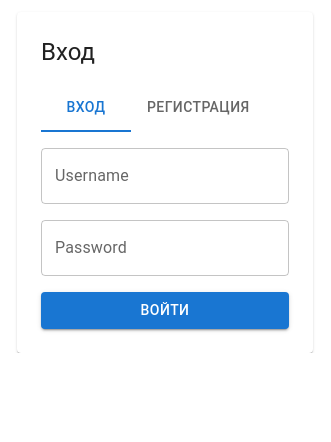
Scenario: AuthForm › switches to register tab and changes heading
Click the tab "Регистрация". click: click(198, 108)
box: top-left (131, 84), bottom-right (266, 132)
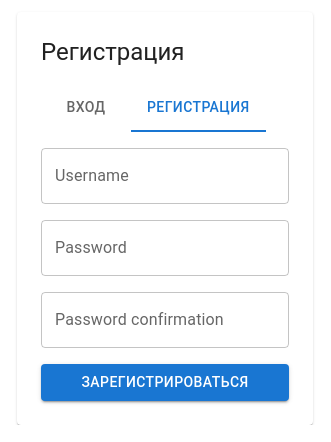
Check: the heading "Регистрация" is shown, box top-left (41, 38), bottom-right (184, 66)
Check: the button "Зарегистрироваться" is shown, box top-left (41, 364), bottom-right (289, 400)
Check: the button "Войти" is gone
